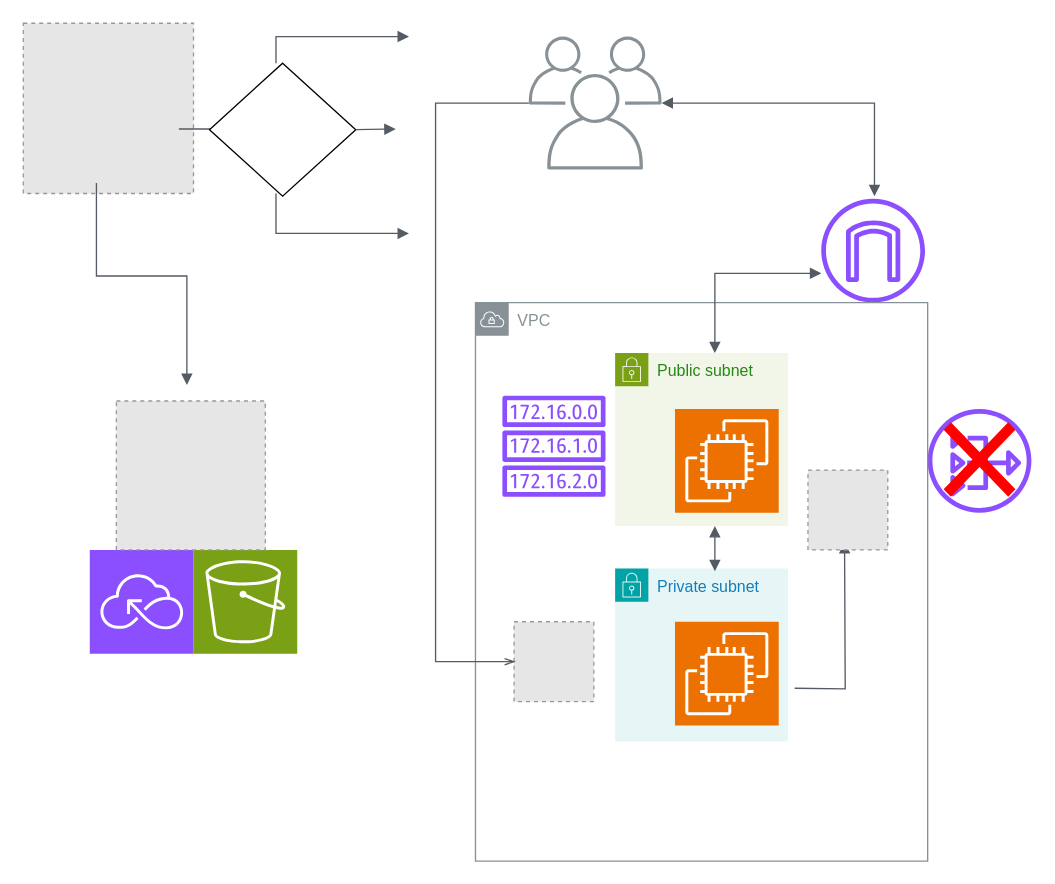
The diagram is 1055 pixels wide and 884 high, and some of its shapes have lost their labels. Grey dashed boxes stand in for pictures. Here are the shapes that lost their labels. From the top down, the centre of each, then its label:
At pixel 594 102: "users".
At pixel 282 129: "Env Feature Switch".
